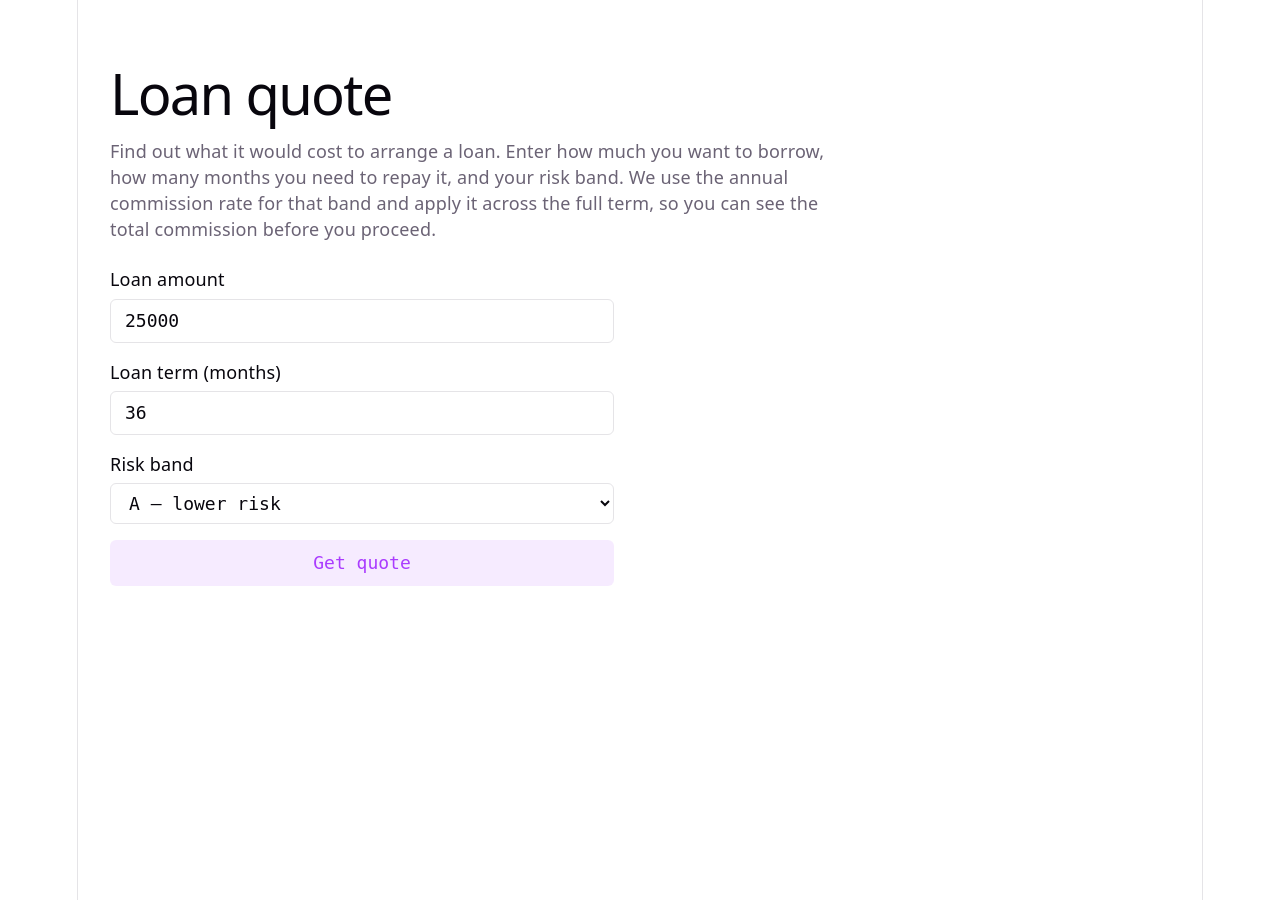
Scenario: Loan quote form › posts loan details with an API key and shows annualised commission
The image size is (1280, 900).
Click the button "Get quote".
click(362, 563)  # box 110,540 -> 614,586
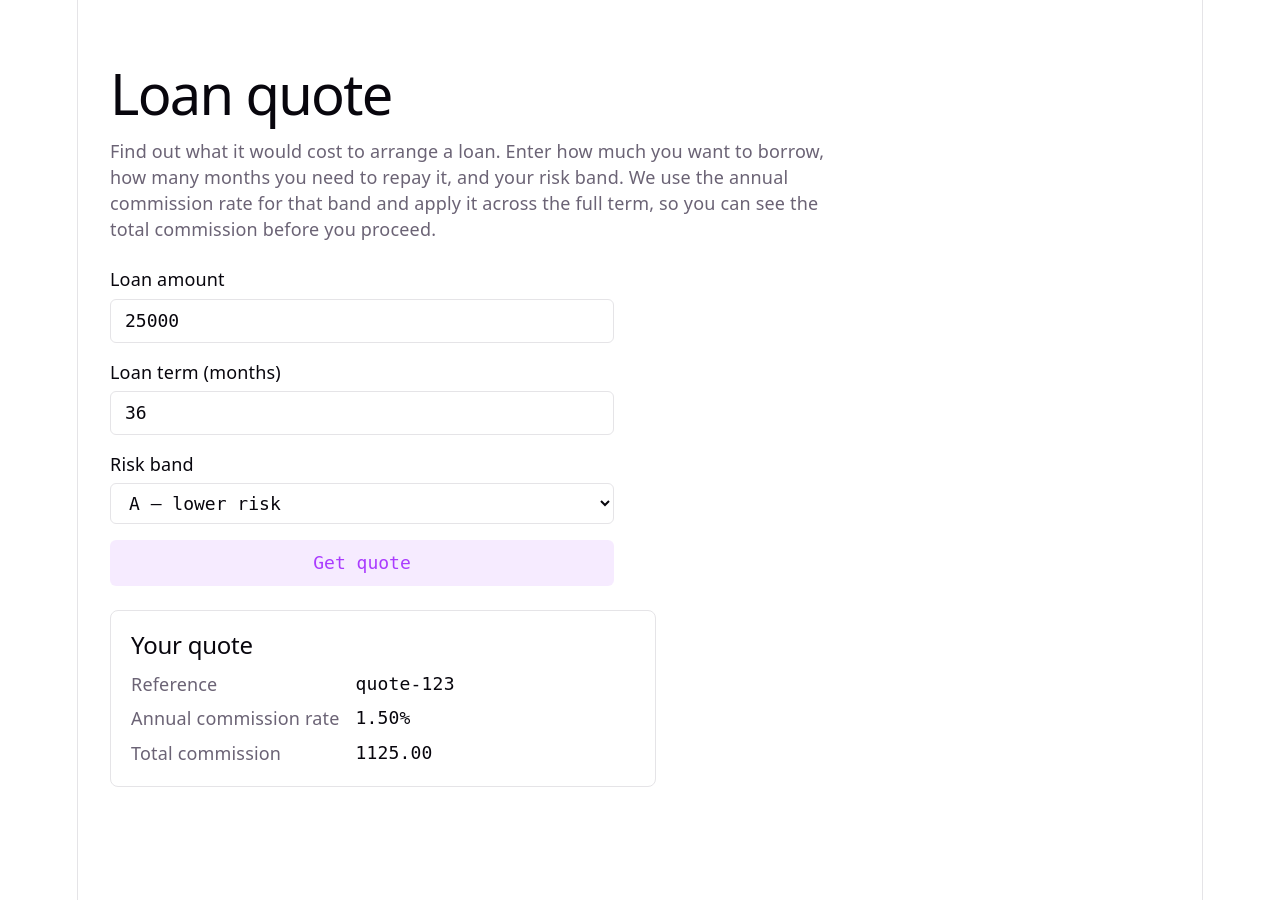
Result: the text "quote-123" is shown at 356,673 -> 455,694
Result: the text "1.50%" is shown at 356,707 -> 411,728
Result: the text "1125.00" is shown at 356,742 -> 433,762
